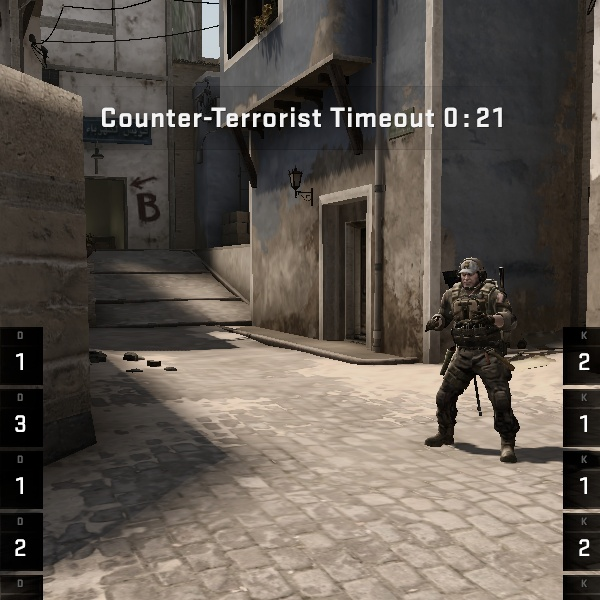ct_body: (414, 250, 529, 464)
ct_head: (451, 253, 491, 293)
